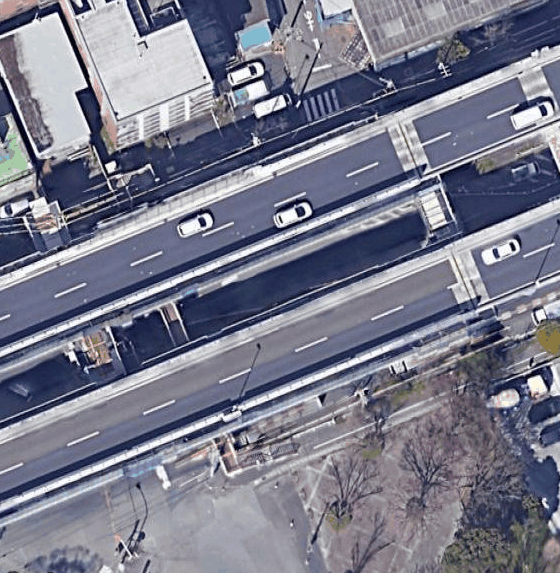rooftop: (78, 0, 211, 122)
